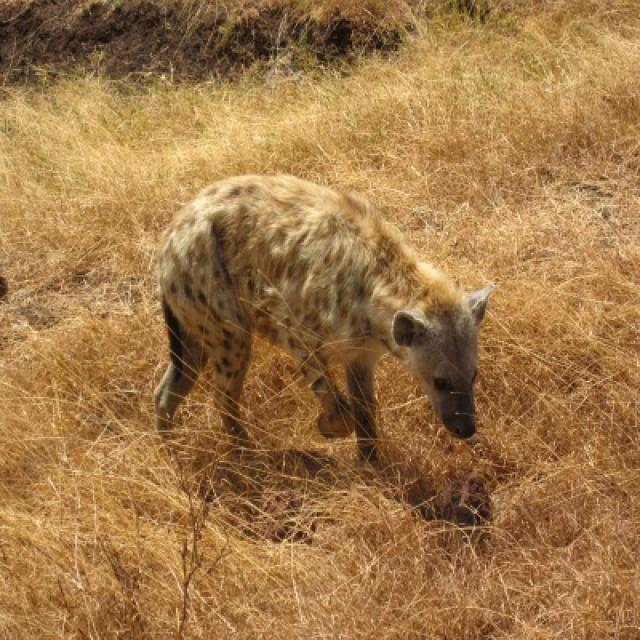hyena: (154, 174, 491, 458)
